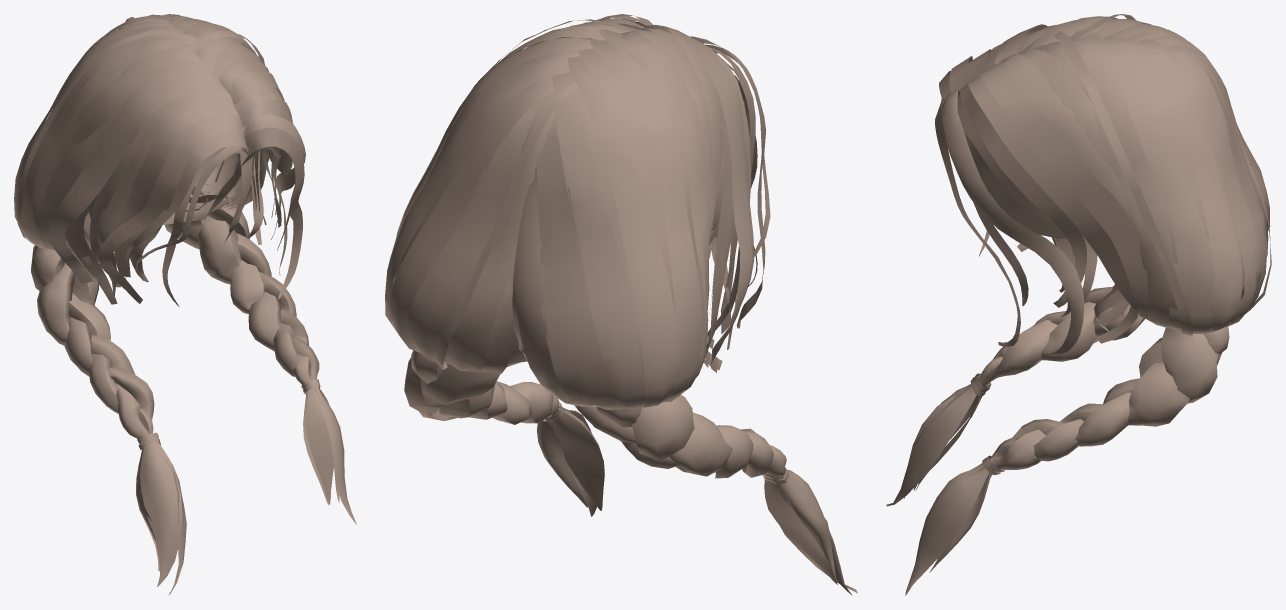
File: female_hair_10_lod0.glb
3 renders of one model, left to right at view 1: azimuth 30°, elevation 25°; view 2: azimuth 150°, elevation 25°; view 3: azimuth 270°, elevation 25°, orthographic. The views are drawn at different scales.
Visible parts, largest first — view 1: female-hair-10; view 2: female-hair-10; view 3: female-hair-10.
Part boxes in pixels (x1,y1,x2,y2): female-hair-10: [14, 14, 356, 595]; female-hair-10: [385, 14, 857, 595]; female-hair-10: [886, 14, 1271, 595].
Bounding box in the file's own units: 0.2254 × 0.421 × 0.2752.
